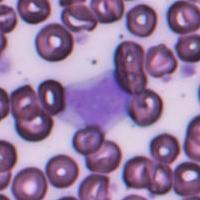M: (65, 69, 132, 129)
